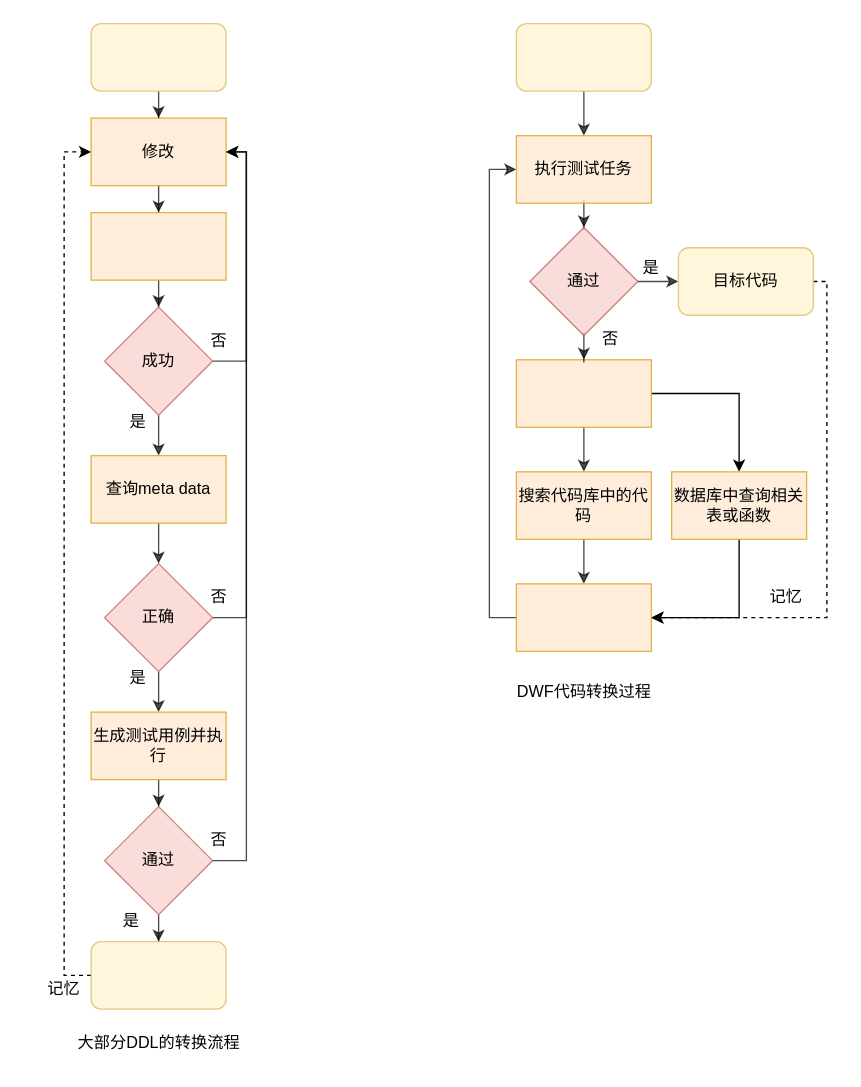
Image size: 861x1087. Some labels were removed from this diagram. The shapes that lost their labels are listed below. From the top down, each one's centre as x and y in pixels, then its label:
At point (158, 56): "源SQL".
At point (583, 56): "DWF代码".
At point (158, 245): "数据库执行".
At point (583, 392): "拉取日志报错与失败样例".
At point (583, 617): "修改代码并提交".
At point (158, 974): "目标SQL".
